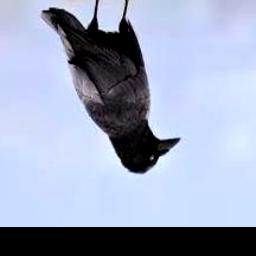Crow: (41, 0, 181, 175)
